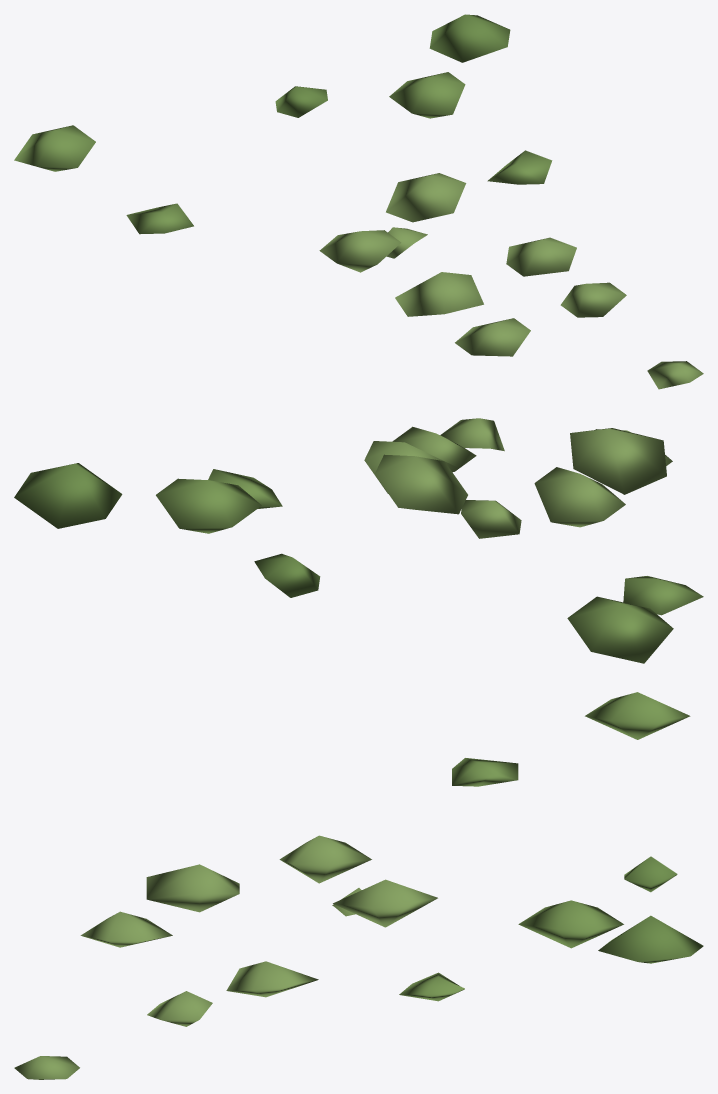
The model's file is canopy-2-0-5.glb.
3 renders of one model, top to bottom at view 1: azimuth 30°, elevation 25°; view 2: azimuth 150°, elevation 25°; view 3: azimuth 270°, elevation 25°, orthographic. The views are drawn at different scales.
Size of the model in its own units: 122 by 40 by 130.
Materials: 1 (1 with a texture image).
